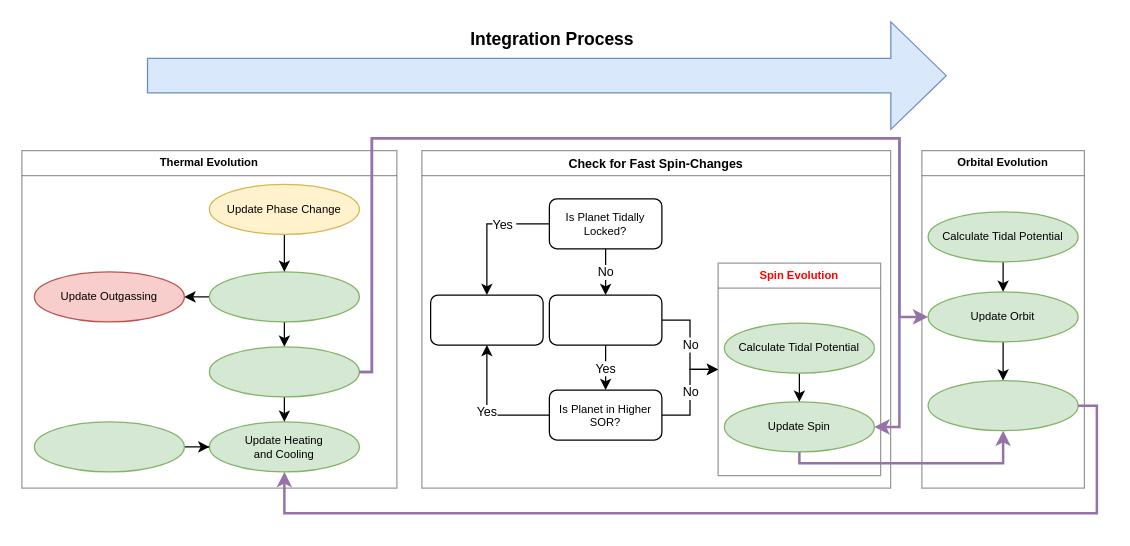
Some shapes in this 1130 by 546 pixel diagram are drawn without their labels. Here are the shapes that lost their labels. From the top down, the centre of each, then its label:
pixel 283 296: Update Viscoelastic Properties
pixel 486 319: Skip Next Spin Evolution
pixel 605 319: Is Eccentricity Large?*
pixel 283 371: Find Love Numbers
pixel 1002 405: Update Tidal Heating
pixel 108 446: Update Radiogenics
